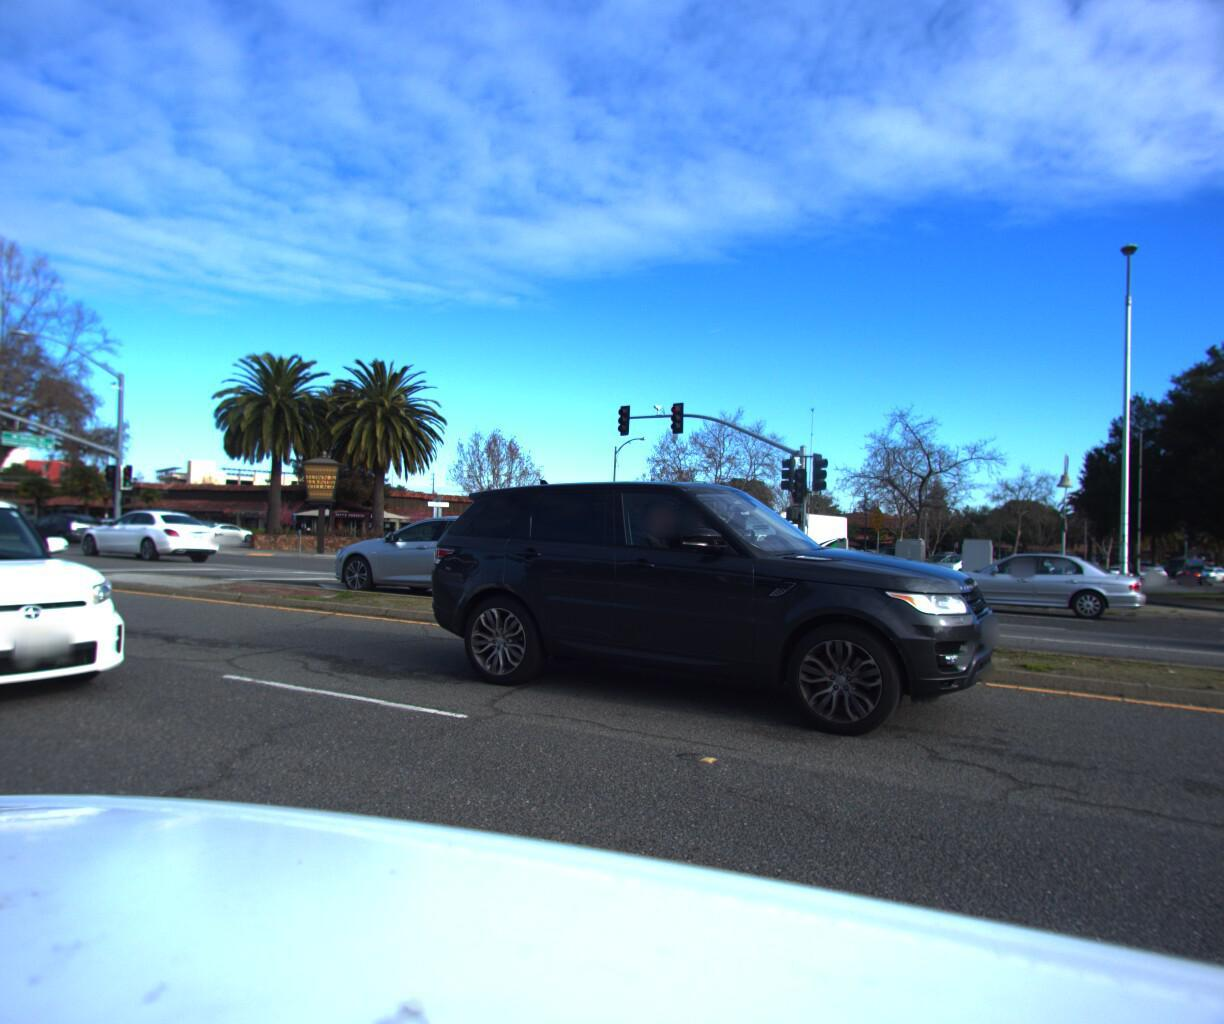car: (402, 464, 1020, 761), (313, 505, 590, 611), (914, 541, 1153, 619), (68, 502, 224, 560), (773, 538, 850, 570), (858, 540, 930, 571), (924, 545, 989, 571), (1174, 556, 1212, 577)
truck: (716, 499, 857, 573)
